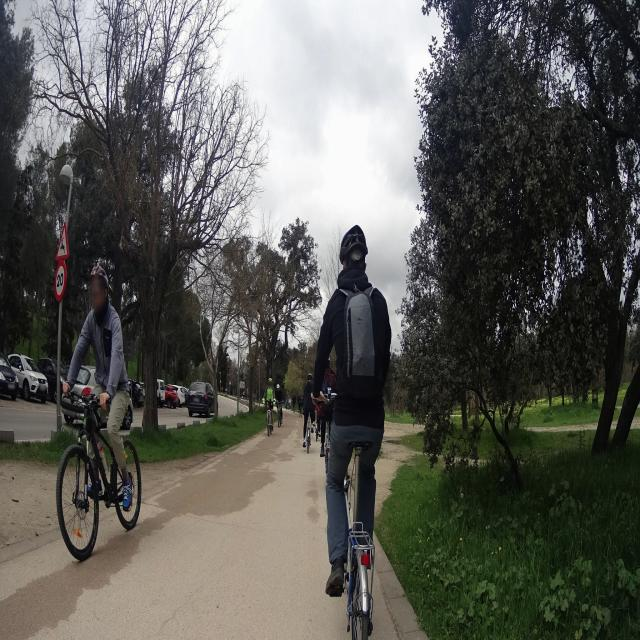bike: (54, 374, 143, 562), (320, 396, 382, 640)
car: (6, 353, 48, 404), (36, 356, 68, 401), (187, 381, 217, 418), (0, 348, 18, 400), (130, 380, 146, 408), (165, 383, 180, 409), (155, 379, 167, 408), (177, 384, 186, 406)
